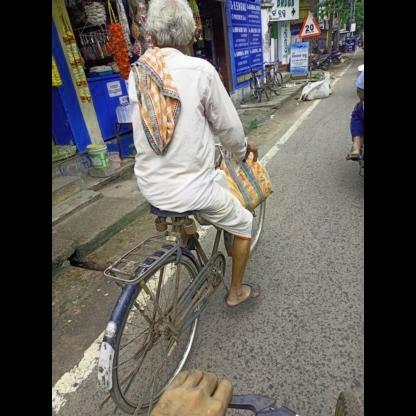Bicycle: (60, 133, 286, 416)
